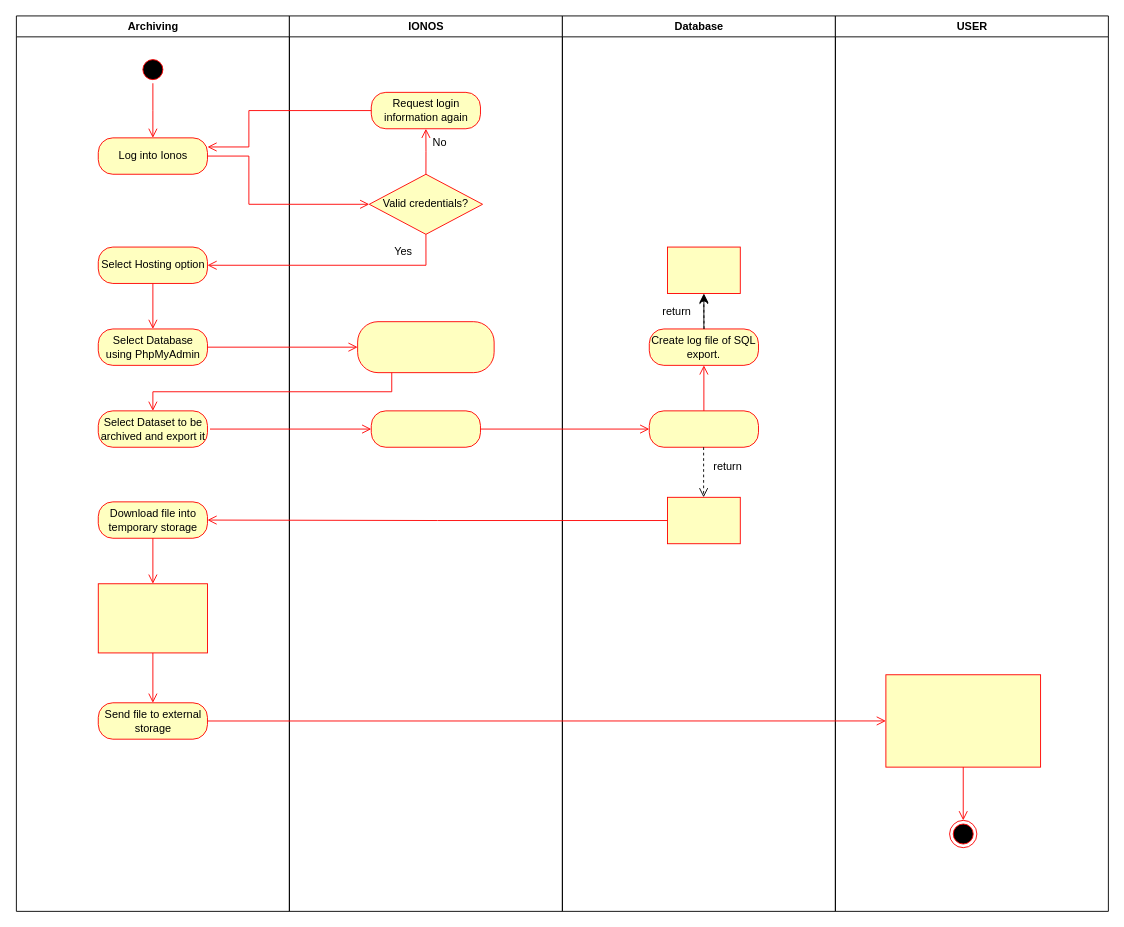
The diagram is 1124 pixels wide and 927 high, and some of its shapes have lost their labels. Each missing label, with the centre of its shape:
Archived SQL data on Secure external storage location.: (963,720)
Create exported dataset to SQL file: (703,428)
Displays the Database through the PhpMyAdmin interface: (425,347)
Request database export of dataset: (425,428)
SQL file: (703,520)
SQL file in temporary storage: (152,618)
SQL log file: (703,269)
